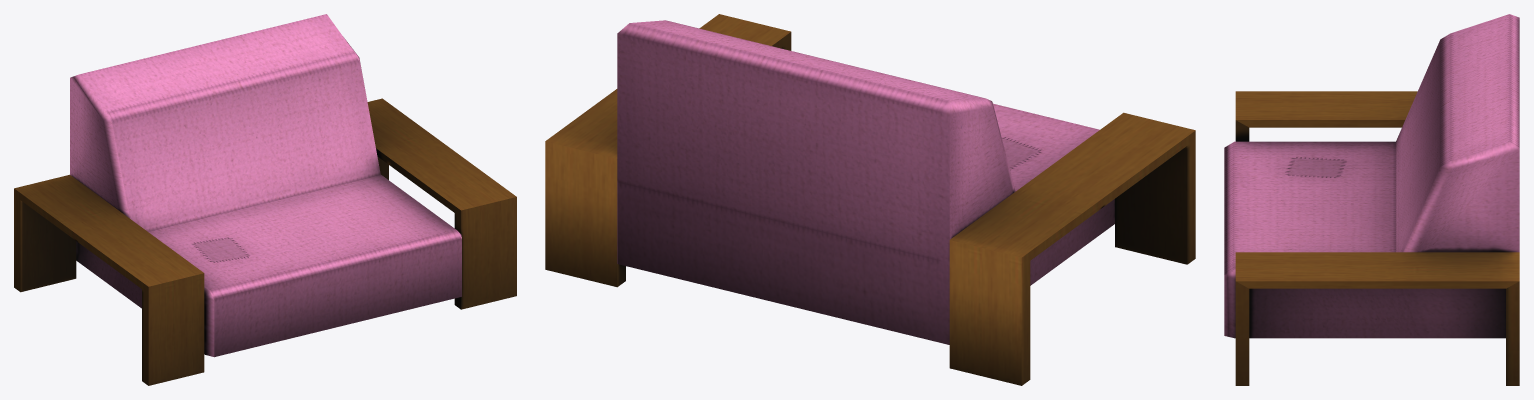
The model's file is Sofa2.fbx.
The picture shows the model from 3 angles, left to right: view 1: azimuth 30°, elevation 25°; view 2: azimuth 150°, elevation 25°; view 3: azimuth 270°, elevation 25°; orthographic projection. The views are drawn at different scales.
Visible parts, largest first — view 1: Sofa2; view 2: Sofa2; view 3: Sofa2.
Part boxes in pixels (x1=…): Sofa2: x1=14, y1=14, x2=516, y2=385; Sofa2: x1=545, y1=14, x2=1195, y2=385; Sofa2: x1=1224, y1=14, x2=1519, y2=385.
Size of the model in its own units: 298 by 156 by 196.
